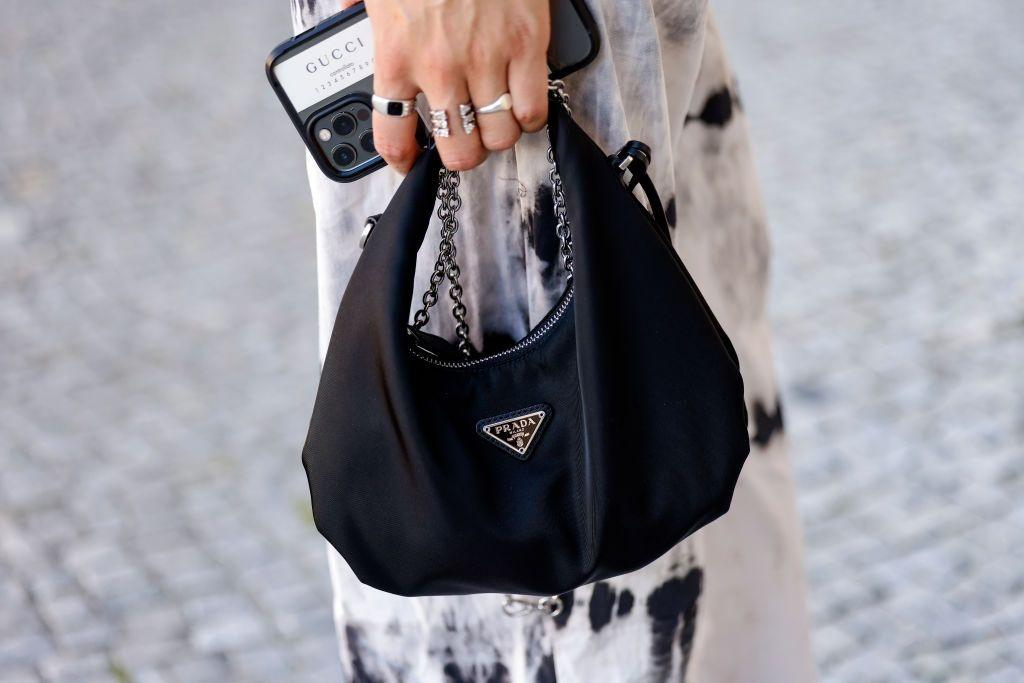PRADA: (482, 411, 546, 455)
